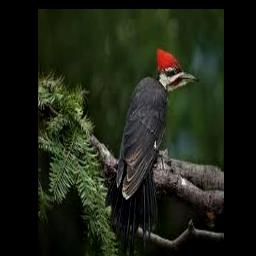Woodpecker: (106, 46, 198, 256)
